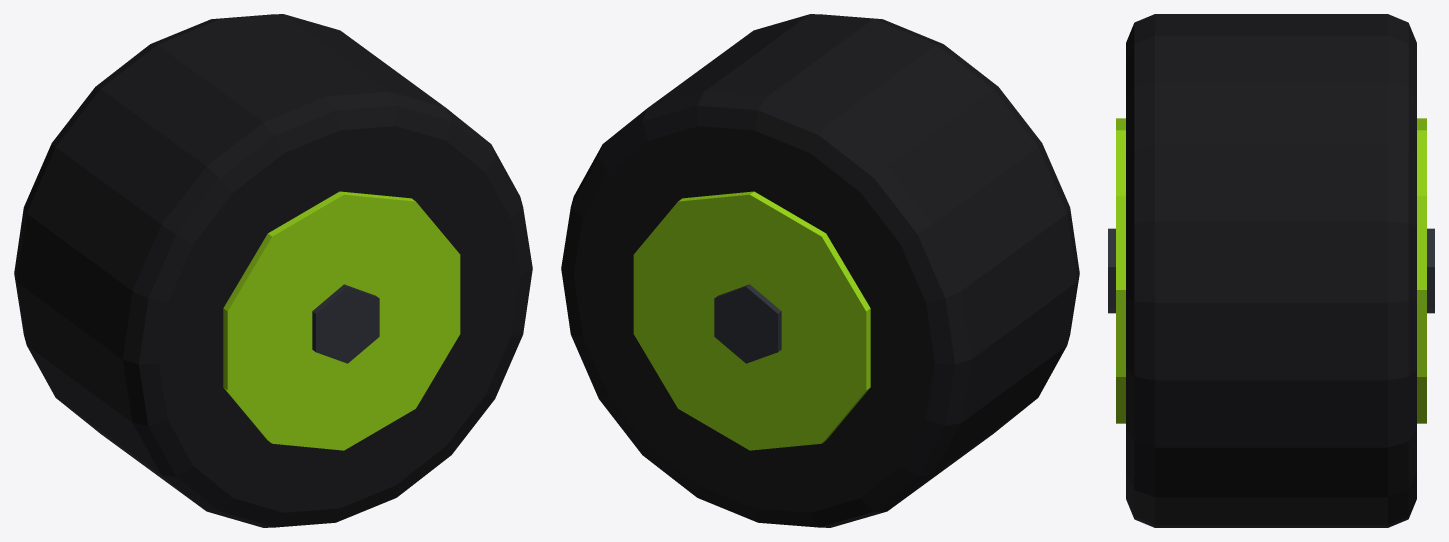
The model's file is wheel_r.obj.
3 renders of one model, left to right at view 1: azimuth 30°, elevation 25°; view 2: azimuth 150°, elevation 25°; view 3: azimuth 270°, elevation 25°, orthographic. The views are drawn at different scales.
Visible parts, largest first — view 1: Cylinder; view 2: Cylinder; view 3: Cylinder.
Part boxes in pixels (left/top/right/bottom): Cylinder: left=14, top=14, right=532, bottom=527; Cylinder: left=561, top=14, right=1079, bottom=527; Cylinder: left=1108, top=14, right=1434, bottom=527.
Bounding box in the file's own units: 0.32 × 0.32 × 0.202.
